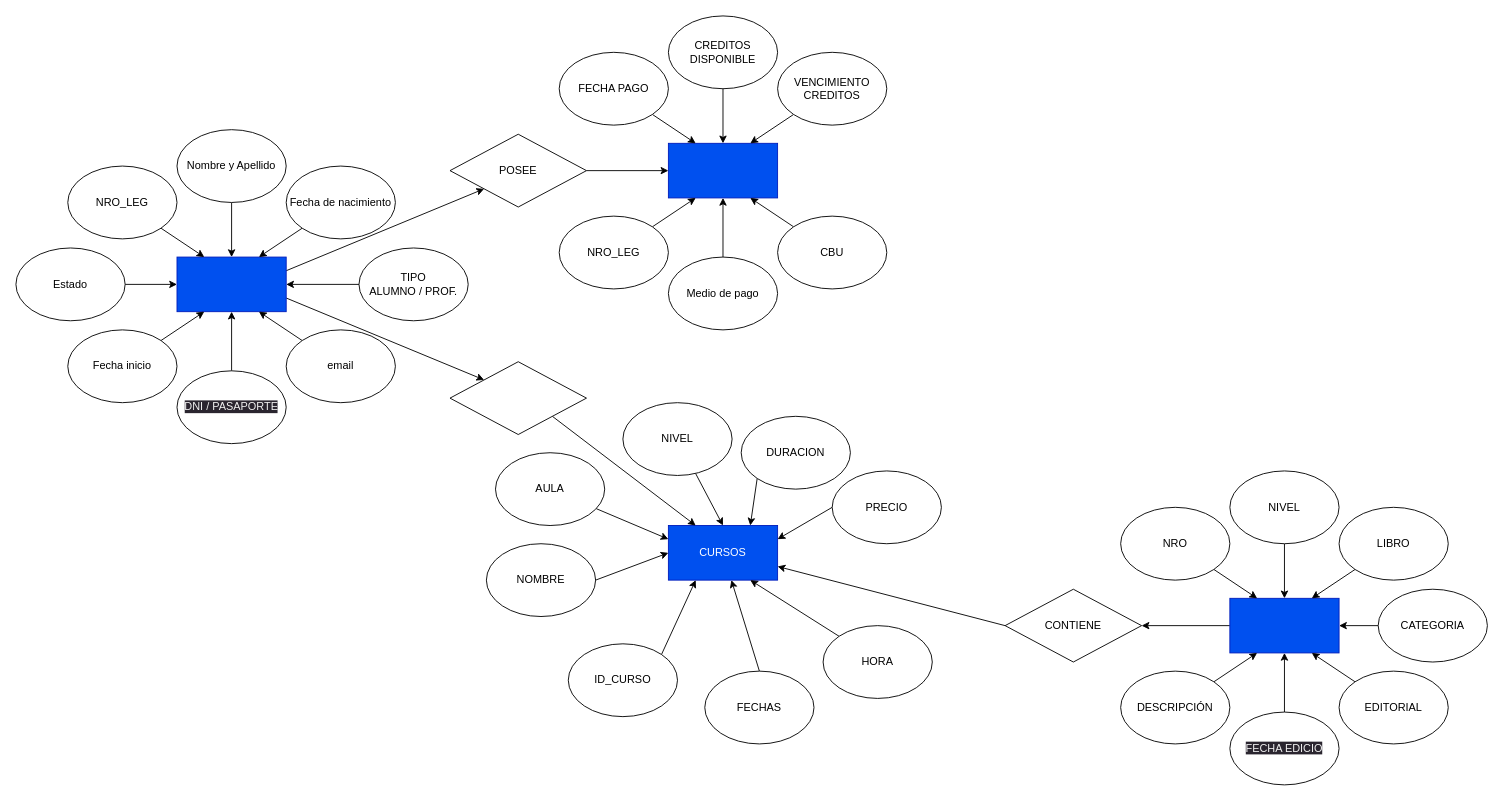
This 1503x801 diagram has some shape labels left out. Here are the shapes that lost their labels. From the top down, the centre of each, then its label:
At point (722, 170): "CREDITOS".
At point (231, 284): "PERSONA".
At point (517, 398): "IINSCRIPTO".
At point (1284, 625): "CONTENIDO".
